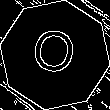O_S: (29, 26, 81, 84)
